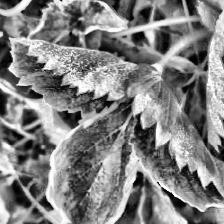Powdery Mildew Leaf: (122, 64, 224, 218), (46, 97, 138, 224), (6, 37, 138, 117), (33, 0, 130, 36), (205, 0, 224, 157)
